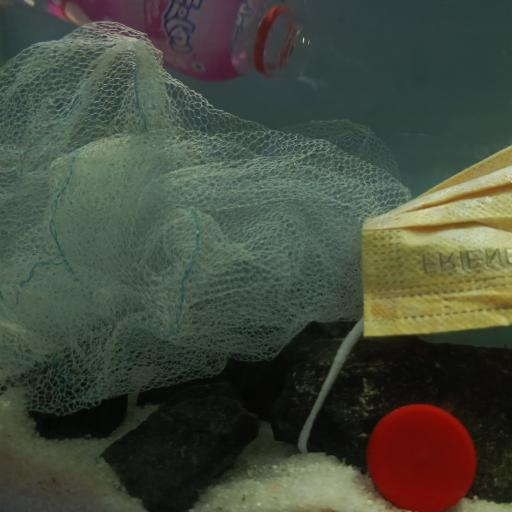bottle_cap: (366, 399, 479, 512)
mask: (299, 144, 512, 438)
net: (0, 23, 413, 426)
plastic_bottle: (27, 0, 318, 91)
